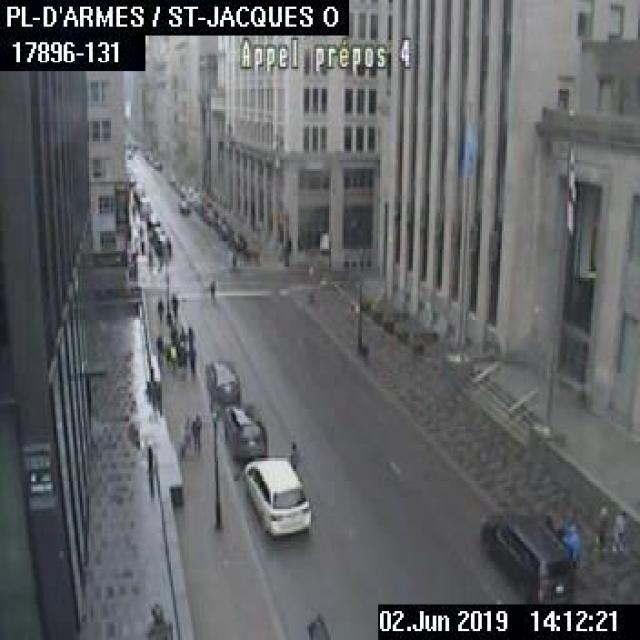pedestrian: (589, 503, 606, 552), (562, 521, 578, 567), (609, 509, 624, 553), (176, 416, 190, 454), (190, 413, 200, 452), (285, 438, 300, 462), (154, 332, 162, 361), (188, 346, 195, 374), (207, 278, 215, 301), (228, 249, 236, 272), (169, 292, 177, 314), (187, 325, 194, 348), (156, 296, 162, 321), (178, 326, 185, 344), (147, 249, 151, 265), (139, 238, 143, 254)
vehicle: (478, 510, 572, 602), (239, 456, 309, 535), (222, 402, 265, 456), (203, 359, 239, 404), (153, 233, 170, 252), (138, 196, 151, 215), (148, 226, 163, 240), (178, 198, 190, 212), (146, 211, 158, 225)
